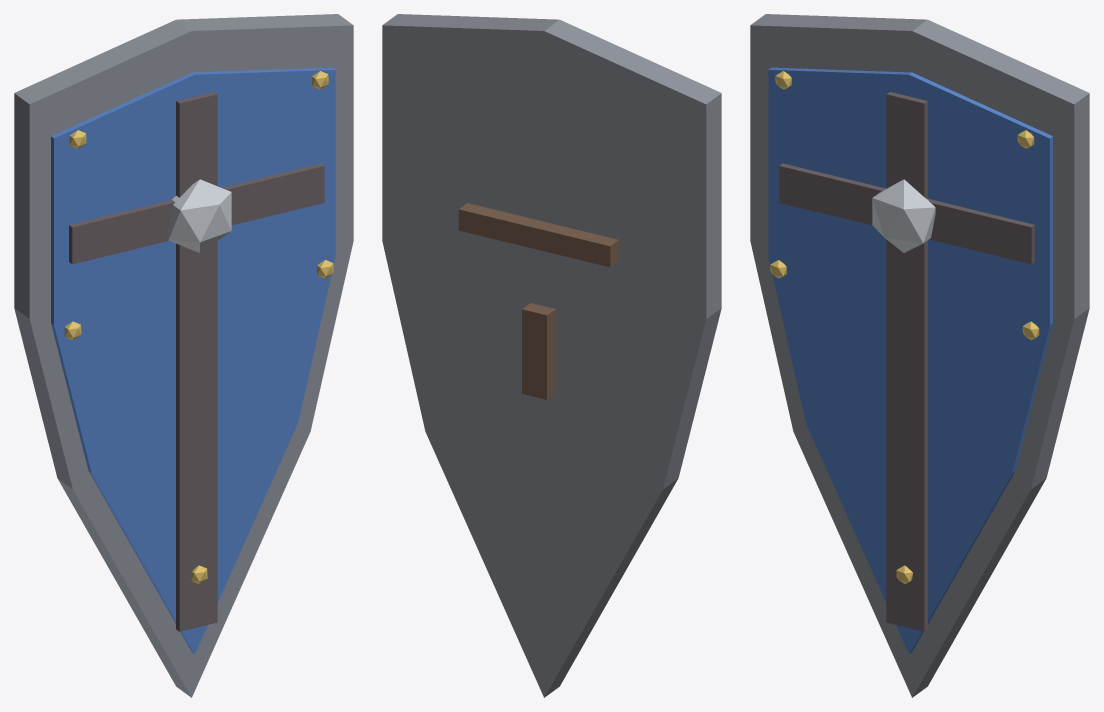
The model's file is Weapon_Shield_Kite_Blue.glb.
3 views of the same model, side by side, from view 1: azimuth 30°, elevation 25°; view 2: azimuth 150°, elevation 25°; view 3: azimuth 330°, elevation 25° (orthographic).
Parts seen in each view (by area): view 1: Shield_Kite_Blue; view 2: Shield_Kite_Blue; view 3: Shield_Kite_Blue.
Part boxes in pixels (x1=…): Shield_Kite_Blue: x1=14, y1=14, x2=353, y2=697; Shield_Kite_Blue: x1=382, y1=14, x2=721, y2=697; Shield_Kite_Blue: x1=750, y1=14, x2=1089, y2=697.
Bounding box in the file's own units: 0.642 × 1.26 × 0.149.
